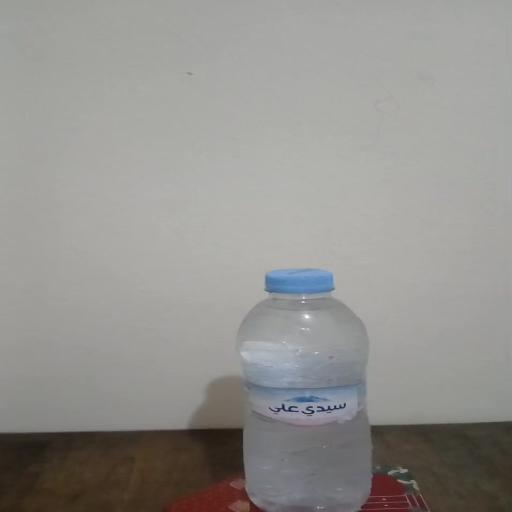bouteille conformite: (230, 254, 414, 512)
